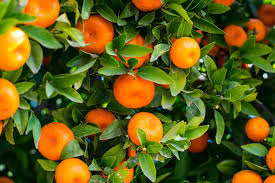orange: (108, 33, 155, 67), (36, 123, 76, 160), (112, 73, 156, 106), (73, 16, 115, 50), (1, 27, 32, 70), (128, 113, 164, 148), (169, 37, 203, 69), (54, 159, 91, 183), (246, 116, 269, 142)
